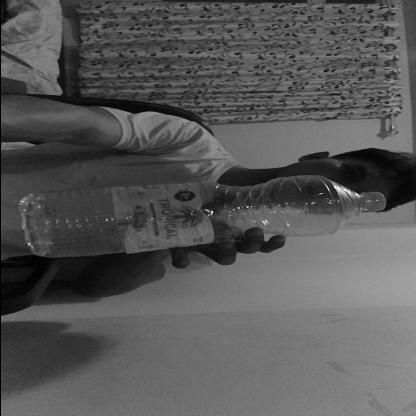plastic_bottles: (17, 174, 388, 258)
